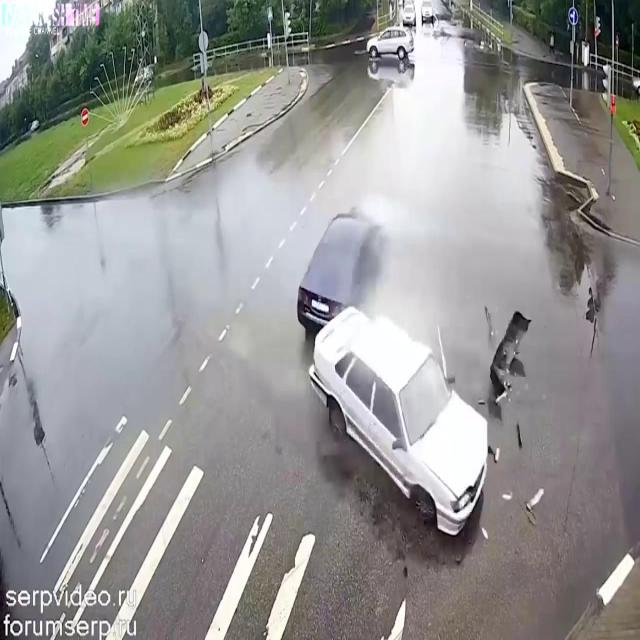accident: (293, 188, 552, 560)
